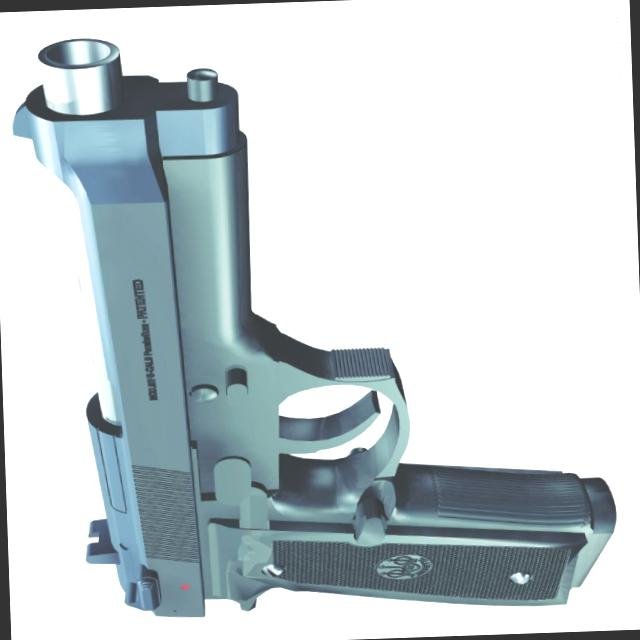handgun: (0, 19, 611, 630)
